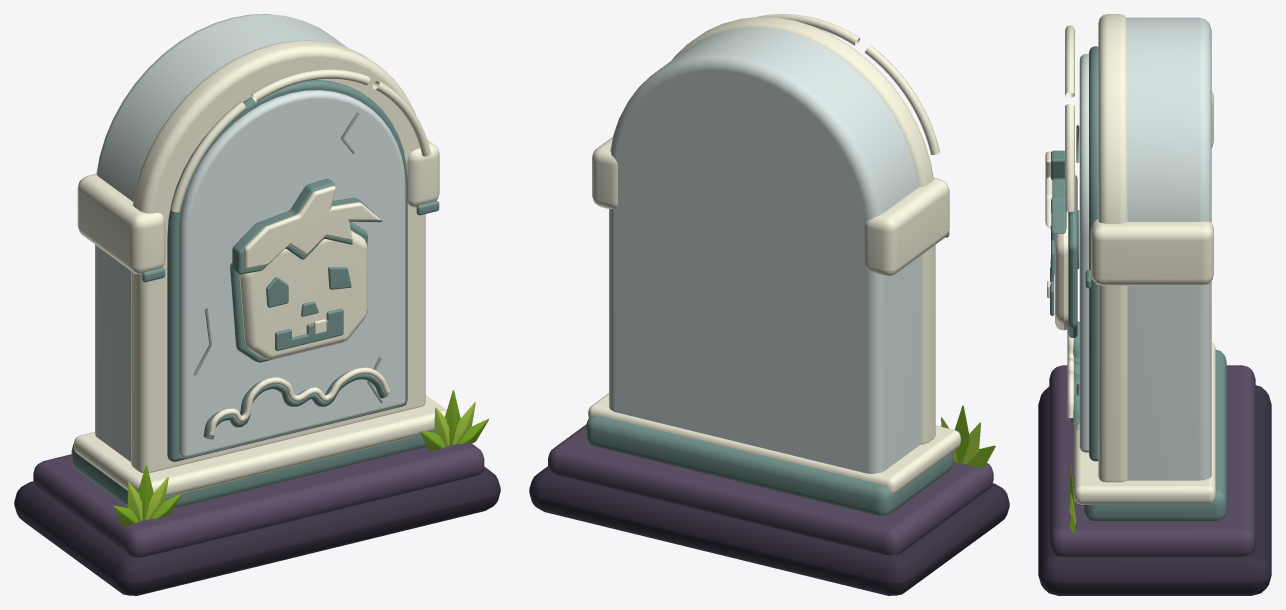
Rendered from Grave_Marble.glb.
The picture shows the model from 3 angles, left to right: view 1: azimuth 30°, elevation 25°; view 2: azimuth 150°, elevation 25°; view 3: azimuth 270°, elevation 25°; orthographic projection.
Parts seen in each view (by area): view 1: Headstone / inset front panel.002, Headstone / raised outer border.002, Base / lower basalt.002, Headstone / solid arched body.002, Base / bevelled upper step.002, Foot / highlight lip.002, Emblem / raised zombie face.002, Headstone / recessed outline.002, Shoulder / sculpted side block.004, Emblem / hair highlight.002, Foot / broad material shoe.002, Emblem / messy hair silhouette.002 (+8 smaller); view 2: Headstone / solid arched body.002, Base / lower basalt.002, Base / bevelled upper step.002, Foot / broad material shoe.002, Headstone / raised outer border.002, Shoulder / sculpted side block.004, Foot / highlight lip.002, Shoulder / sculpted side block.005, Crown / curved raised band.008, Crown / curved raised band.007; view 3: Headstone / solid arched body.002, Base / bevelled upper step.002, Base / lower basalt.002, Headstone / raised outer border.002, Shoulder / sculpted side block.005, Foot / highlight lip.002, Foot / broad material shoe.002, Headstone / inset front panel.002, Headstone / recessed outline.002, Emblem / raised zombie face.002, Emblem / dark carved silhouette.002, Emblem / messy hair silhouette.002 (+5 smaller).
Part boxes in pixels (x1,y1,x2,y2): Headstone / inset front panel.002: (178,90,405,458); Headstone / raised outer border.002: (131,40,425,472); Base / lower basalt.002: (14,466,500,595); Headstone / solid arched body.002: (95,14,346,461); Base / bevelled upper step.002: (33,443,484,557); Foot / highlight lip.002: (74,395,446,497); Emblem / raised zombie face.002: (239,230,367,359); Headstone / recessed outline.002: (167,79,407,461); Shoulder / sculpted side block.004: (77,174,165,274); Emblem / hair highlight.002: (243,185,380,268); Foot / broad material shoe.002: (71,432,434,508); Emblem / messy hair silhouette.002: (232,178,382,274); Headstone / solid arched body.002: (609,27,920,473); Base / lower basalt.002: (529,466,1009,595); Base / bevelled upper step.002: (548,424,993,555); Foot / broad material shoe.002: (586,415,952,515); Headstone / raised outer border.002: (672,16,935,444); Shoulder / sculpted side block.004: (864,177,949,276); Foot / highlight lip.002: (588,393,960,494); Shoulder / sculpted side block.005: (592,137,617,209); Crown / curved raised band.008: (864,45,939,154); Crown / curved raised band.007: (757,14,860,45); Headstone / solid arched body.002: (1126,17,1211,480); Base / bevelled upper step.002: (1049,365,1255,556); Base / lower basalt.002: (1038,385,1271,595); Headstone / raised outer border.002: (1098,14,1127,482); Shoulder / sculpted side block.005: (1090,219,1213,285); Foot / highlight lip.002: (1074,342,1215,504); Foot / broad material shoe.002: (1083,350,1226,520); Headstone / inset front panel.002: (1079,54,1088,452); Headstone / recessed outline.002: (1089,46,1098,461); Emblem / raised zombie face.002: (1055,211,1068,330); Emblem / dark carved silhouette.002: (1068,175,1077,337); Emblem / messy hair silhouette.002: (1050,150,1066,234).
Bounding box in the file's own units: 2.6 × 3.14 × 1.38.
